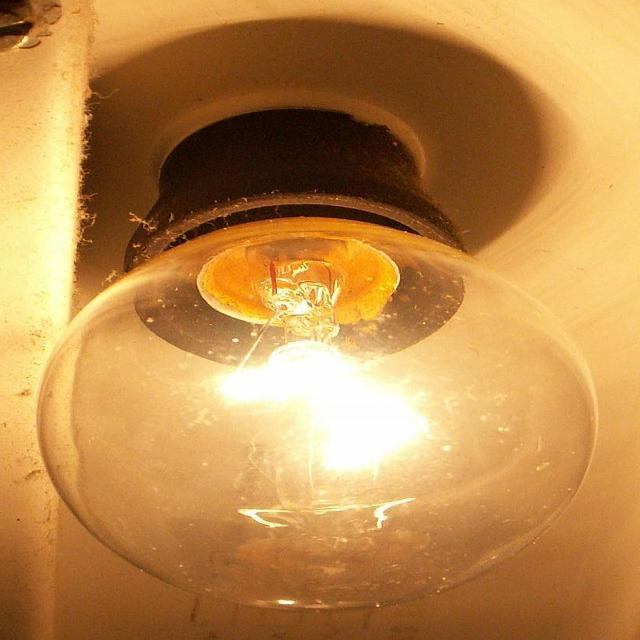light_bulb: (20, 90, 612, 630)
